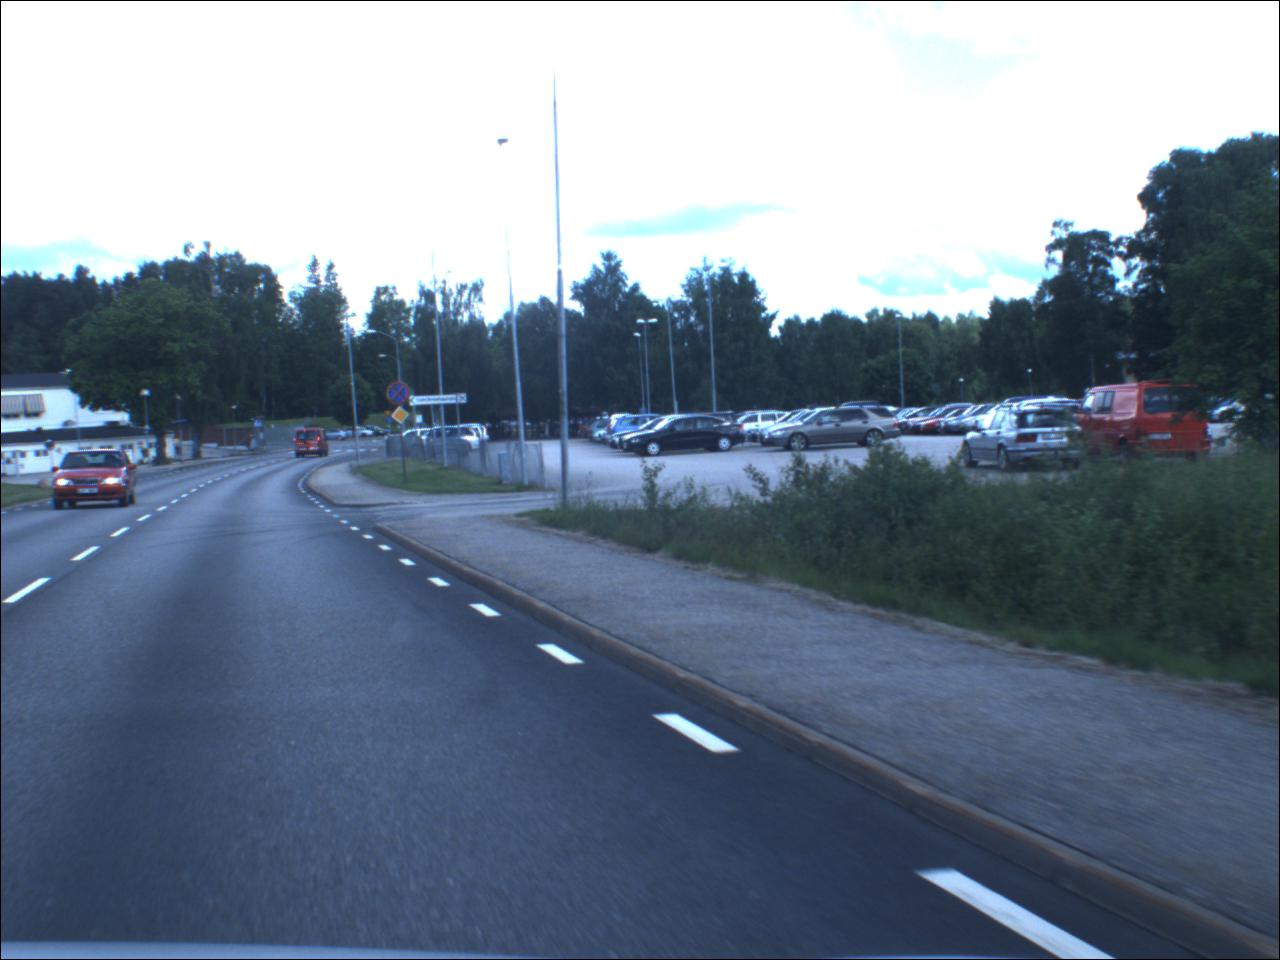NO_STOPPING_NO_STANDING: (387, 382, 415, 408)
PRIORITY_ROAD: (392, 407, 413, 427)
